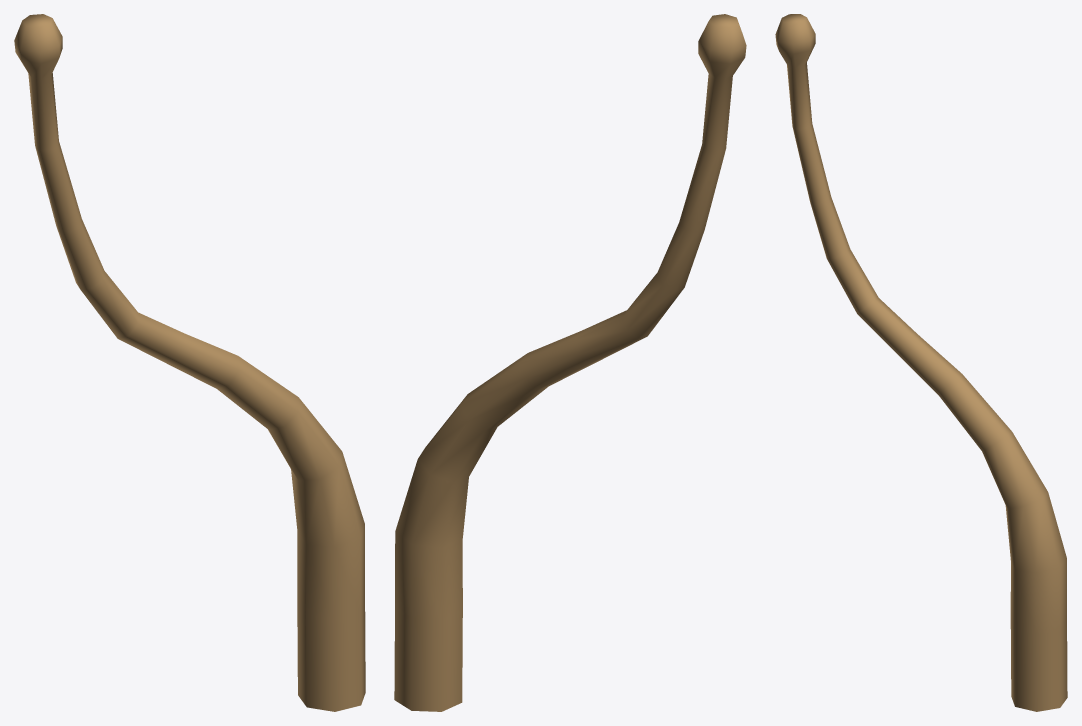
Rendered from palmTreesVisual-compressed.glb.
3 renders of one model, left to right at view 1: azimuth 30°, elevation 25°; view 2: azimuth 150°, elevation 25°; view 3: azimuth 330°, elevation 25°, orthographic. The views are drawn at different scales.
Parts seen in each view (by area): view 1: treeBody; view 2: treeBody; view 3: treeBody.
Part boxes in pixels (bbox=[...]): treeBody: bbox=[14, 14, 365, 711]; treeBody: bbox=[394, 14, 746, 711]; treeBody: bbox=[775, 14, 1067, 711].
Size of the model in its own units: 3.56 by 7.41 by 0.5938.
